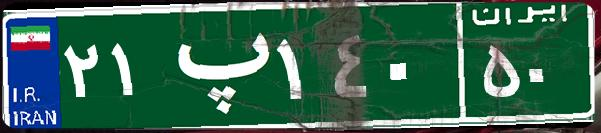0: (385, 28, 445, 110), (525, 38, 570, 115)
1: (273, 28, 330, 110), (110, 28, 158, 105)
2: (57, 26, 110, 107)
4: (330, 28, 385, 110)
5: (475, 38, 525, 113)
پ: (158, 15, 273, 115)
